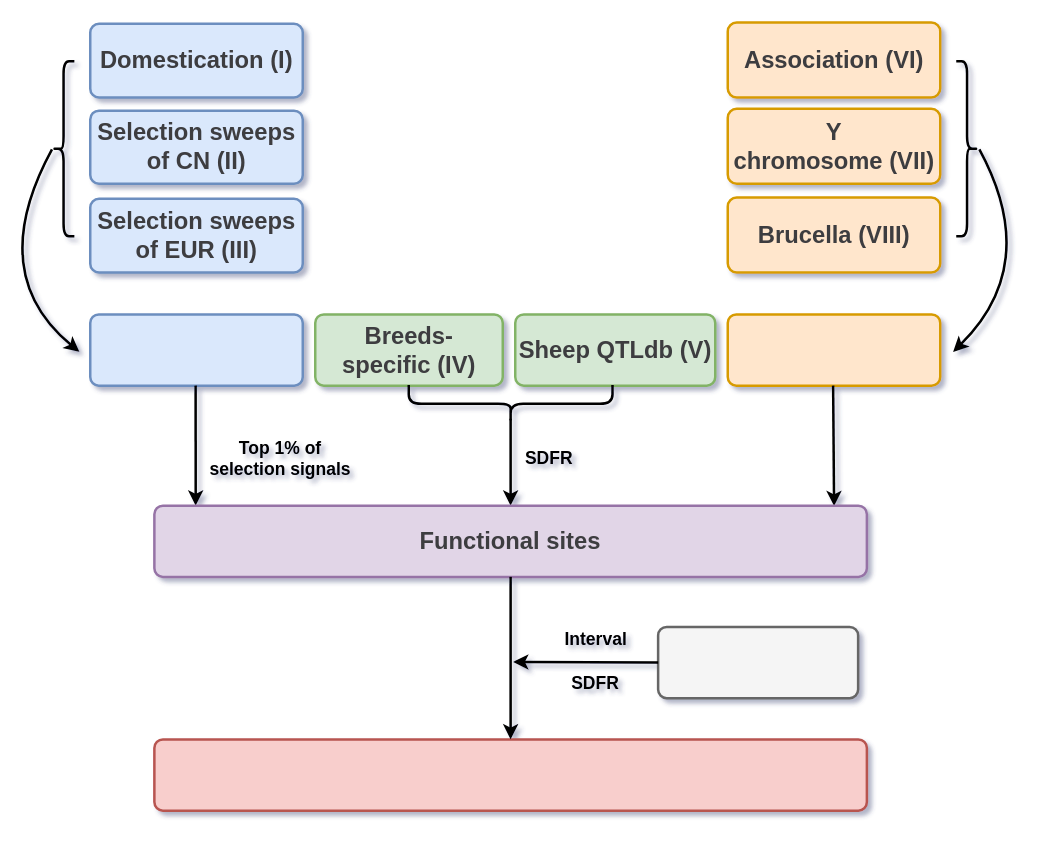
The diagram is 1038 pixels wide and 843 high, and some of its shapes have lost their labels. The shapes that lost their labels are listed below. From the top down, each one's centre as x and y in pixels, then its label:
the point at 195,349: Selection sweeps
the point at 833,349: Compulsive sites
the point at 757,662: Fill sites (IX)
the point at 510,774: Sheep 40K liquid chip panel
